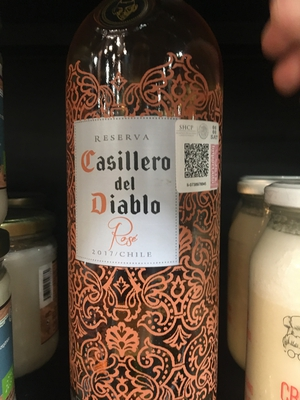casillero del diablo rose: (62, 18, 241, 394)
